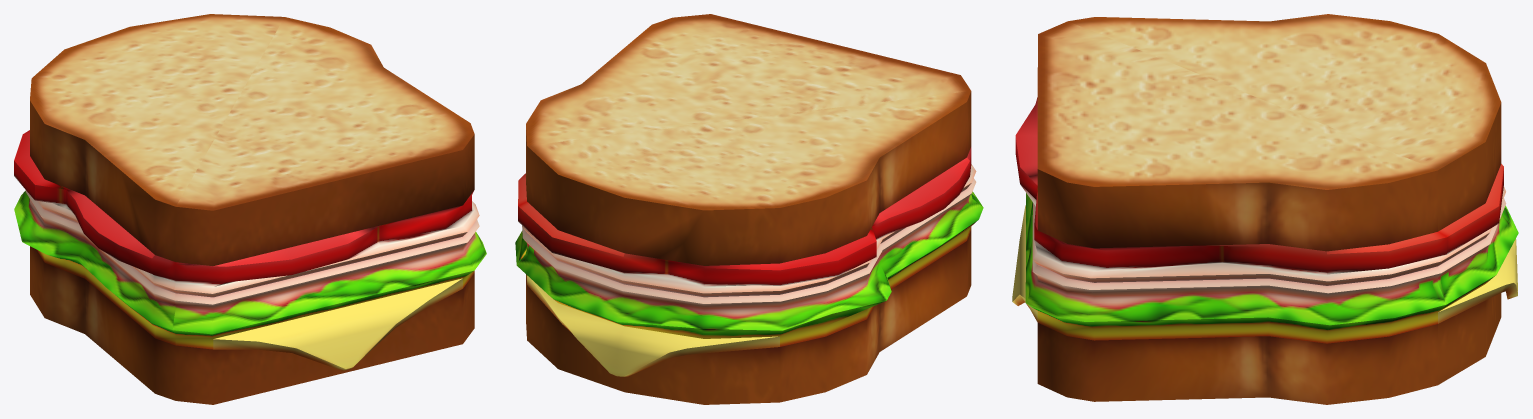
File: 007-Sandwich_Deli.FBX
3 renders of one model, left to right at view 1: azimuth 30°, elevation 25°; view 2: azimuth 150°, elevation 25°; view 3: azimuth 270°, elevation 25°, orthographic. The views are drawn at different scales.
Visible parts, largest first — view 1: 007-Sandwich_Deli; view 2: 007-Sandwich_Deli; view 3: 007-Sandwich_Deli.
Boxes of the visible parts, bbox=[...] form: 007-Sandwich_Deli: bbox=[14, 14, 486, 404]; 007-Sandwich_Deli: bbox=[515, 14, 983, 404]; 007-Sandwich_Deli: bbox=[1012, 14, 1518, 404].
Size of the model in its own units: 17.91 by 9.34 by 19.96.
